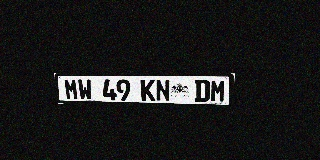plate: (54, 73, 235, 107)
